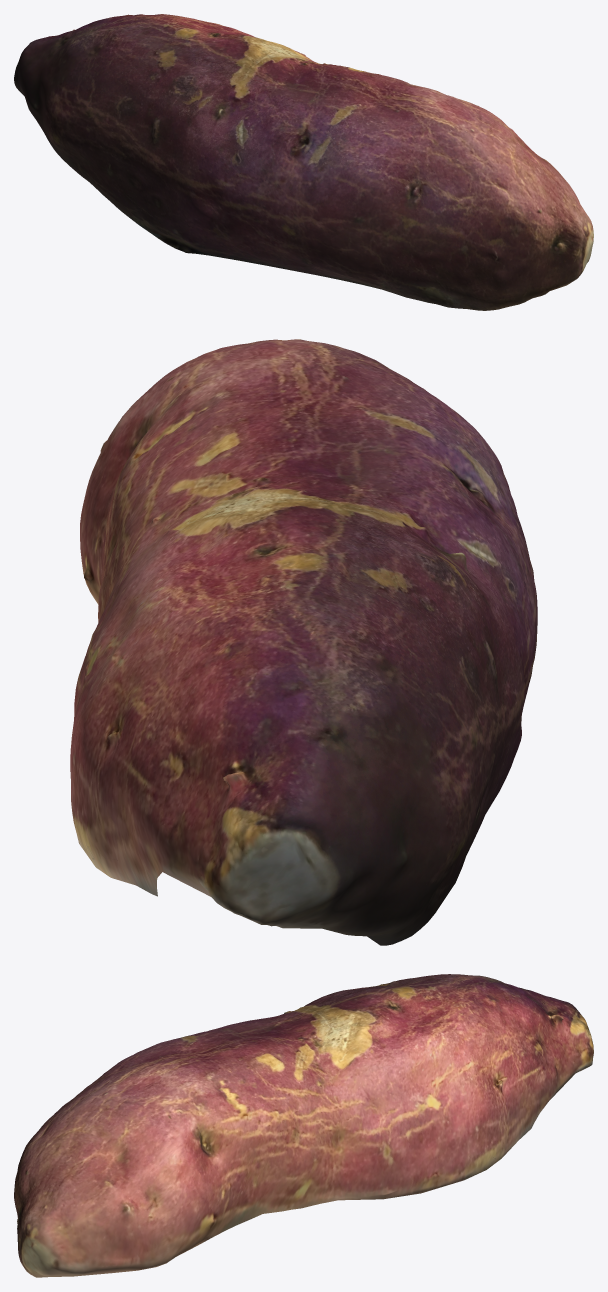
3 views of the same model, one above another, from view 1: azimuth 30°, elevation 25°; view 2: azimuth 150°, elevation 25°; view 3: azimuth 270°, elevation 25° (orthographic). The views are drawn at different scales.
Visible parts, largest first — view 1: baked_mesh_689b4bfb; view 2: baked_mesh_689b4bfb; view 3: baked_mesh_689b4bfb.
Boxes of the visible parts, x1,y1,x2,y2 form: baked_mesh_689b4bfb: [14, 14, 593, 310]; baked_mesh_689b4bfb: [70, 339, 537, 945]; baked_mesh_689b4bfb: [14, 974, 593, 1277].
Size of the model in its own units: 0.5953 by 0.3206 by 0.8263.
1 material, 1 textured.
